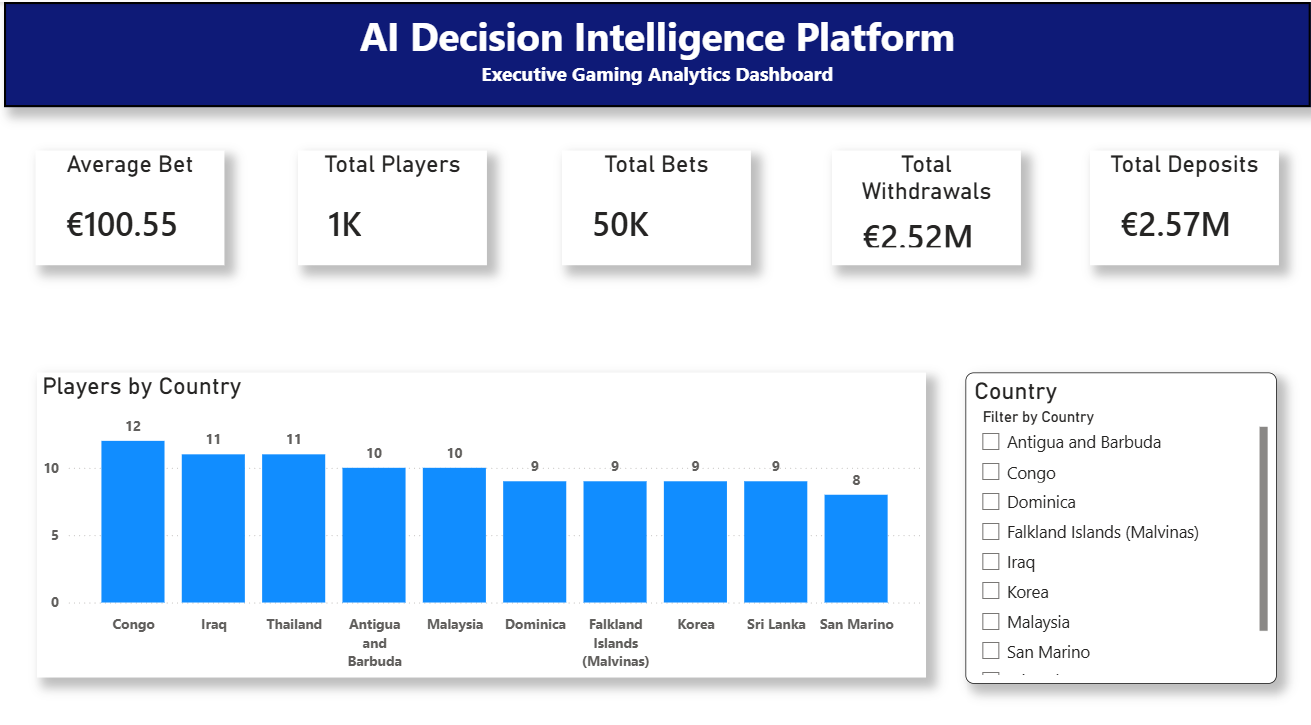

Layout of this report page (visuals, bound fields, positions):
{"tool":"powerbi","page":{"name":"Executive Dashboard","canvas":[1280,720],"ordinal":0},"visuals":[{"type":"textbox","box":[11.3,0,1268,102],"z":0},{"type":"cardVisual","title":"Average Bet","fields":{"Data":["kpi_summary.Average Bet"]},"box":[41.6,143.6,183.3,111.5],"z":1000},{"type":"cardVisual","title":"Total Deposits","fields":{"Data":["kpi_summary.Total Deposits"]},"box":[1065.8,143.6,183.3,111.5],"z":2000},{"type":"cardVisual","title":"Total Players","fields":{"Data":["kpi_summary.Total Players"]},"box":[296.7,143.6,183.3,111.5],"z":3000},{"type":"cardVisual","title":"Total Bets","fields":{"Data":["kpi_summary.Total Bets"]},"box":[553.7,143.6,183.3,111.5],"z":4000},{"type":"cardVisual","title":"Total Withdrawals","fields":{"Data":["kpi_summary.Total Withdrawals"]},"box":[814.5,143.6,183.3,111.5],"z":5000},{"type":"clusteredColumnChart","title":"Players by Country","fields":{"Category":["players_by_country.country"],"Y":["Sum(players_by_country.total_players)"]},"box":[44.1,358.8,862.4,295.9],"z":6000},{"type":"slicer","title":"Country","fields":{"Values":["players_by_country.country"]},"box":[944.3,358.8,302.2,302.2],"z":7000}]}

Visuals, with their boxes in screenshot pixels (x1, y1, x2, y2), scaled from the page's 1280x720 canvas onto the 1311x725 screenshot:
textbox: 12/0/1310/103
"Average Bet" cardVisual: 43/145/230/257
"Total Deposits" cardVisual: 1092/145/1279/257
"Total Players" cardVisual: 304/145/492/257
"Total Bets" cardVisual: 567/145/755/257
"Total Withdrawals" cardVisual: 834/145/1022/257
"Players by Country" clusteredColumnChart: 45/361/928/659
"Country" slicer: 967/361/1277/666
